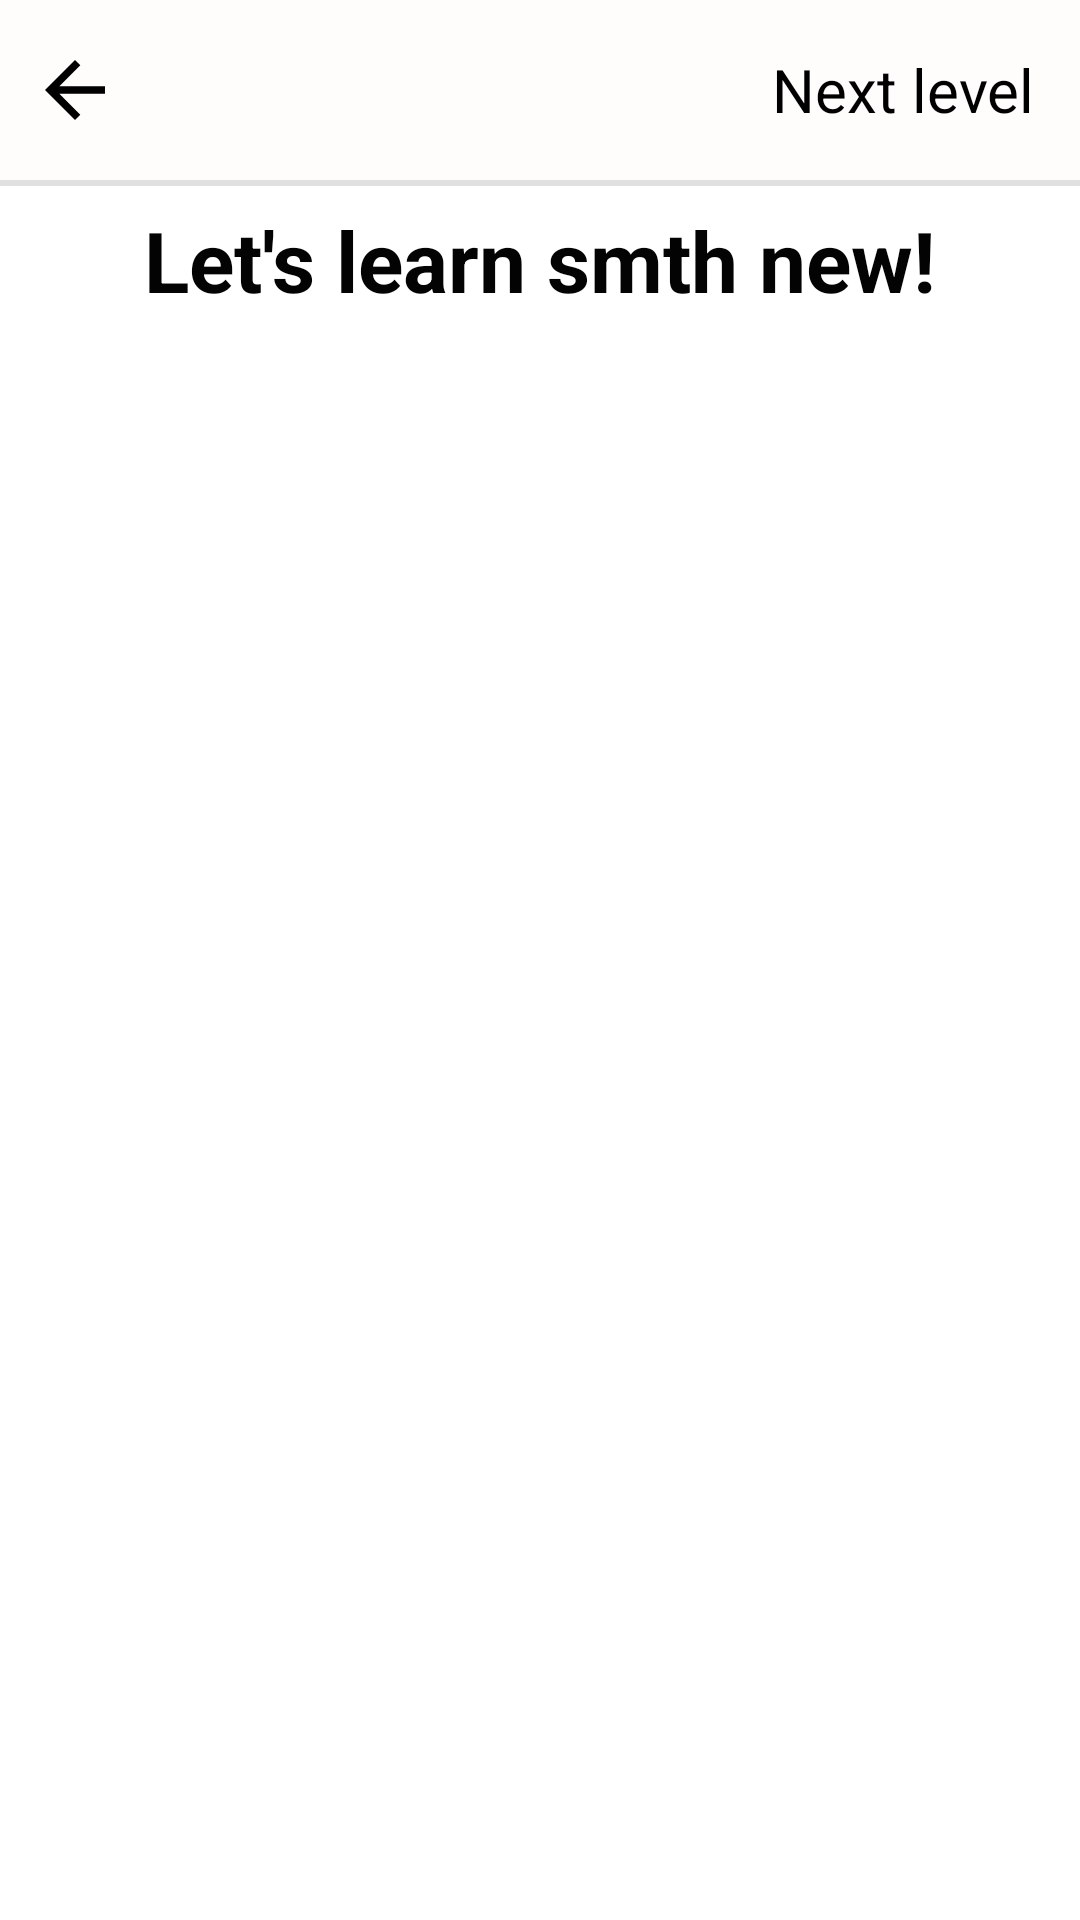

Locate icon controls on the screen. Image size 1080px×1920px, boxes as (x1,y1,x2,y2).
arrow back: (45,60,105,120)
